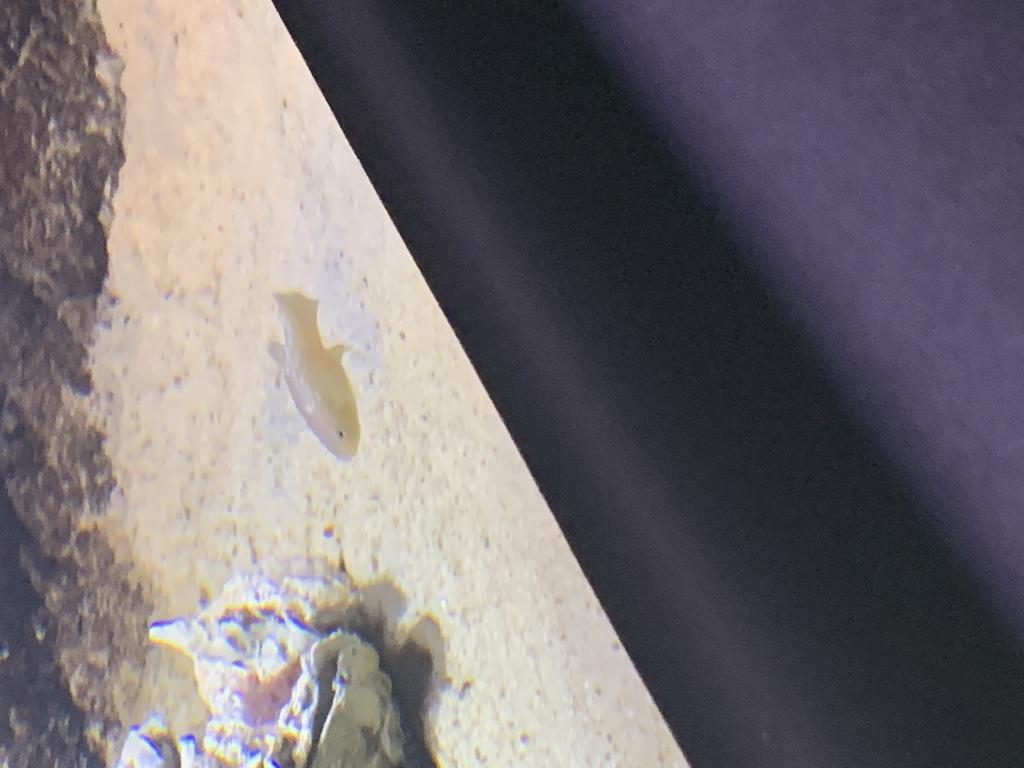fish: (256, 286, 360, 460)
